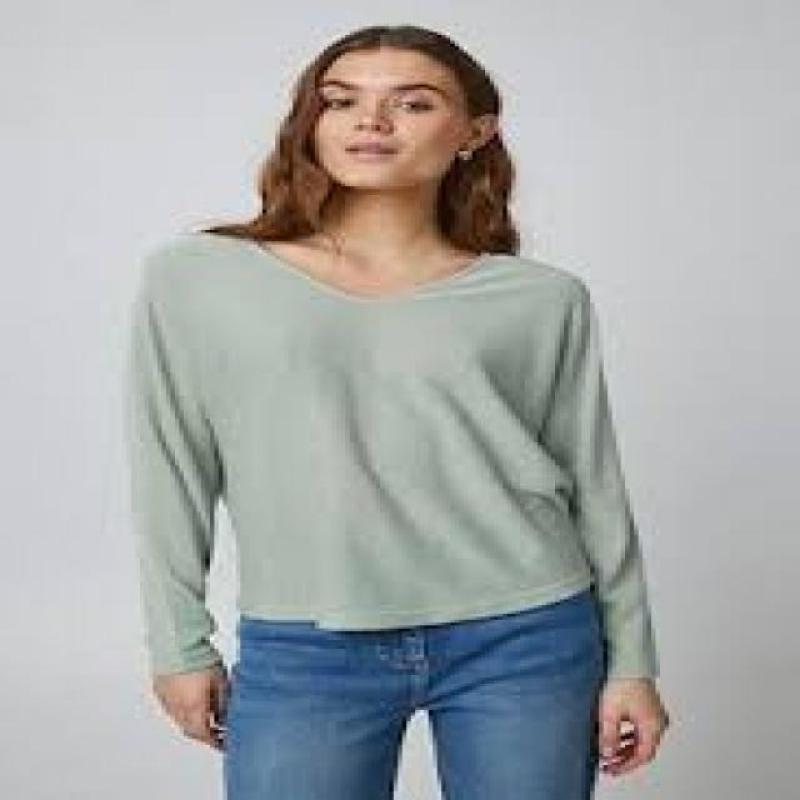long sleeve shirt: (121, 224, 659, 680)
trousers: (220, 586, 610, 800)
